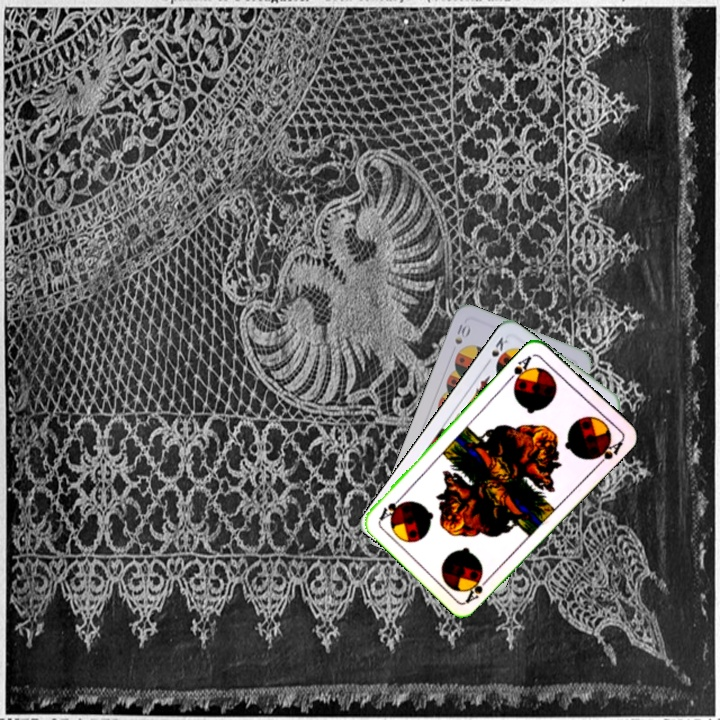S10: (451, 319, 473, 347)
SA: (504, 351, 536, 388), (462, 569, 494, 605)
SK: (481, 333, 510, 369)
